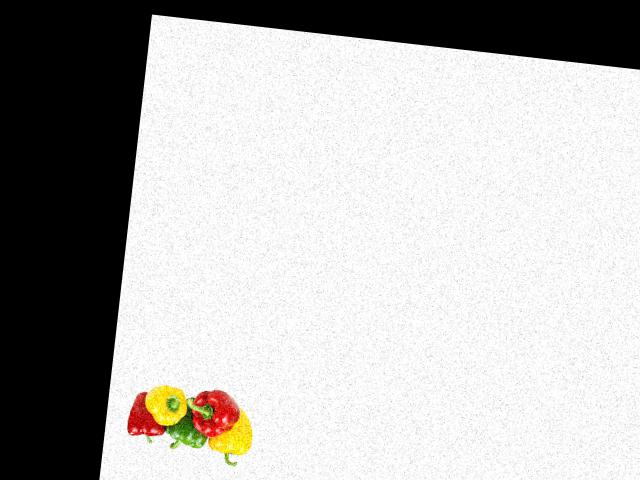bell_pepper: (122, 396, 168, 446)
